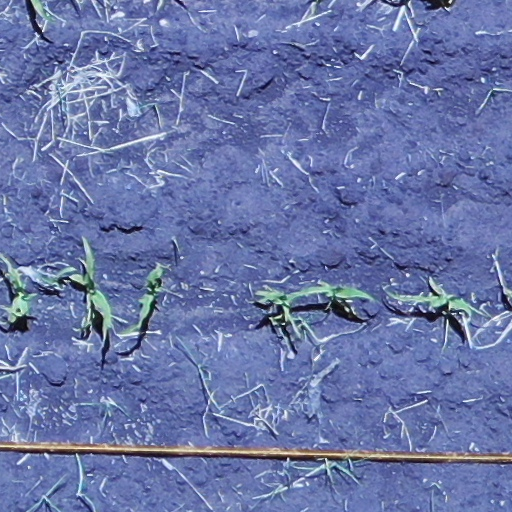planta: (70, 237, 112, 336), (387, 279, 477, 315), (118, 266, 163, 337), (254, 290, 303, 340), (7, 266, 35, 325), (285, 285, 371, 302)
